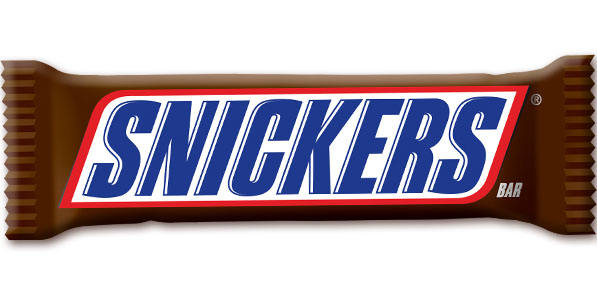snickers: (79, 95, 506, 198)
